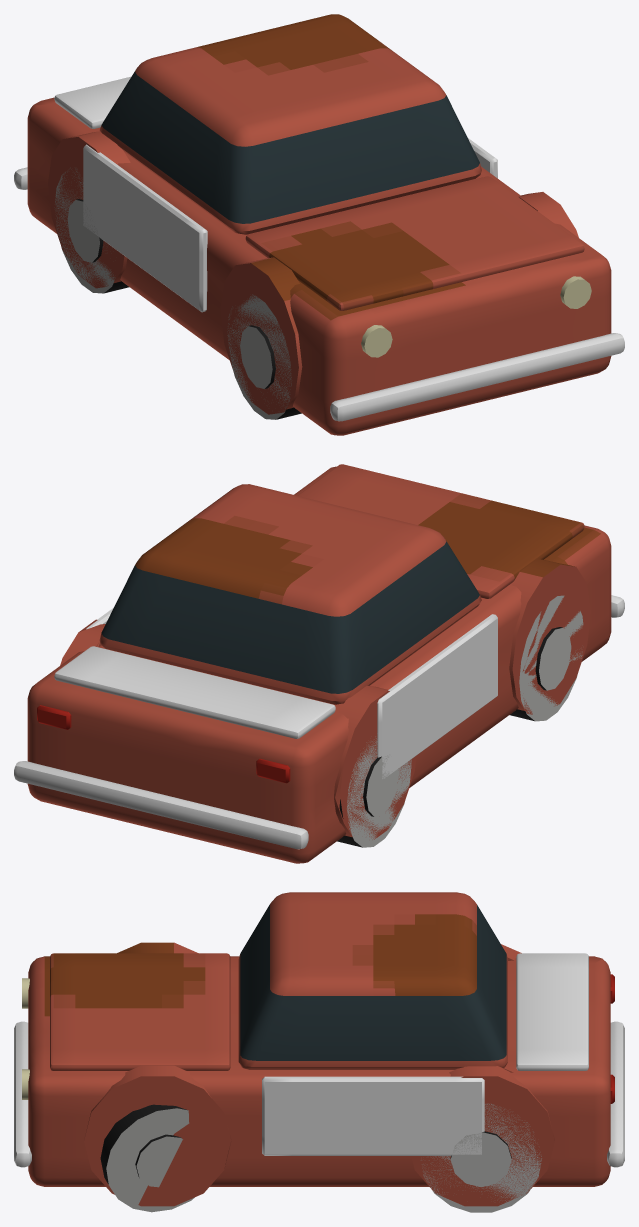
The model's file is L17D_Wreck_B.fbx.
The picture shows the model from 3 angles, top to bottom: view 1: azimuth 30°, elevation 25°; view 2: azimuth 150°, elevation 25°; view 3: azimuth 270°, elevation 25°; orthographic projection. The views are drawn at different scales.
Parts seen in each view (by area): view 1: Body.001, Cabin.001, Hood.001, DoorL.001, Bumpers.001, WheelFL.001, WheelRL, Trunk.001, Lamps.001; view 2: Body.001, Cabin.001, Hood.001, Trunk.001, DoorL.001, Bumpers.001, WheelRL, WheelFL.001, Lamps.001; view 3: Body.001, Cabin.001, Hood.001, DoorR.001, Trunk.001, WheelFR.001, WheelRR.001, Bumpers.001, Lamps.001.
Part boxes in pixels (x1=…): Body.001: x1=27, y1=97, x2=611, y2=435; Cabin.001: x1=99, y1=14, x2=481, y2=234; Hood.001: x1=245, y1=176, x2=584, y2=310; DoorL.001: x1=83, y1=144, x2=207, y2=312; Bumpers.001: x1=14, y1=167, x2=624, y2=421; WheelFL.001: x1=227, y1=294, x2=301, y2=419; WheelRL: x1=54, y1=167, x2=129, y2=293; Trunk.001: x1=54, y1=76, x2=130, y2=128; Lamps.001: x1=361, y1=276, x2=591, y2=357; Body.001: x1=27, y1=466, x2=611, y2=863; Cabin.001: x1=99, y1=484, x2=481, y2=704; Hood.001: x1=297, y1=464, x2=584, y2=598; Trunk.001: x1=54, y1=646, x2=335, y2=738; DoorL.001: x1=377, y1=614, x2=497, y2=778; Bumpers.001: x1=14, y1=595, x2=624, y2=849; WheelRL: x1=337, y1=736, x2=411, y2=847; WheelFL.001: x1=510, y1=595, x2=583, y2=721; Lamps.001: x1=37, y1=705, x2=290, y2=783; Body.001: x1=28, y1=942, x2=610, y2=1206; Cabin.001: x1=238, y1=892, x2=507, y2=1069; Hood.001: x1=50, y1=953, x2=230, y2=1070; DoorR.001: x1=262, y1=1076, x2=484, y2=1155; Trunk.001: x1=516, y1=953, x2=588, y2=1070; WheelFR.001: x1=100, y1=1104, x2=194, y2=1212; WheelRR.001: x1=421, y1=1103, x2=541, y2=1212; Bumpers.001: x1=14, y1=1021, x2=624, y2=1167; Lamps.001: x1=22, y1=974, x2=614, y2=1103.
Bounding box in the file's own units: 1.89 × 1.31 × 3.4.
